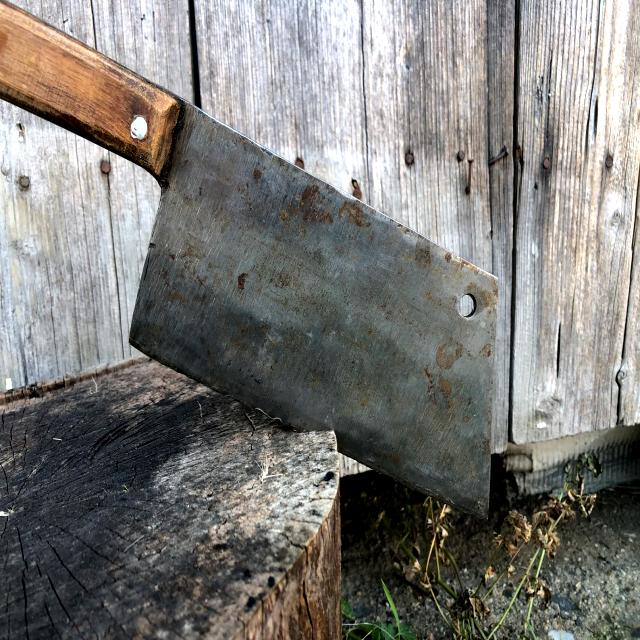cleaver: (2, 0, 493, 528)
